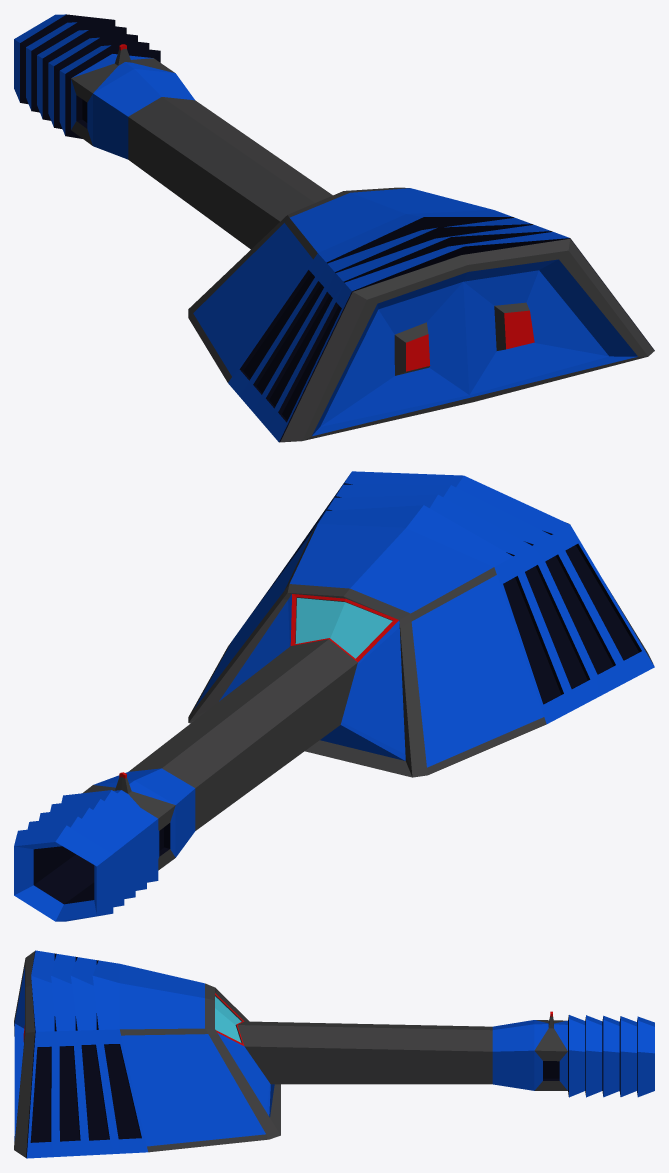
File: CanonLourd1.fbx
3 renders of one model, top to bottom at view 1: azimuth 30°, elevation 25°; view 2: azimuth 150°, elevation 25°; view 3: azimuth 270°, elevation 25°, orthographic. The views are drawn at different scales.
Visible parts, largest first — view 1: Cube; view 2: Cube; view 3: Cube.
Part boxes in pixels (x1,y1,x2,y2): Cube: (14,14,654,442); Cube: (14,471,654,921); Cube: (14,950,654,1158).
Bounding box in the file's own units: 269 × 119 × 520.
